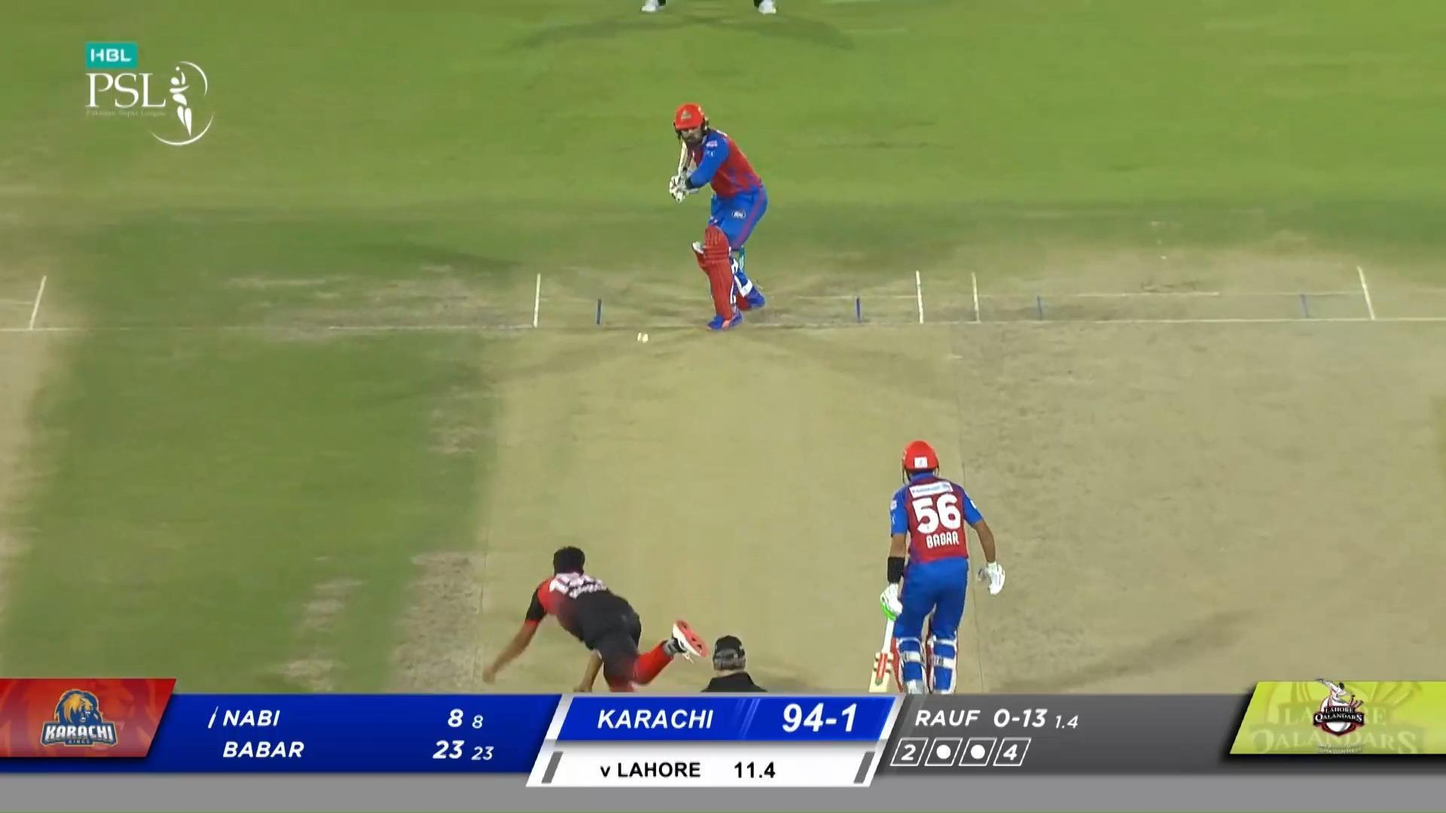BM 1: (668, 104, 769, 332)
BO: (482, 545, 709, 693)
